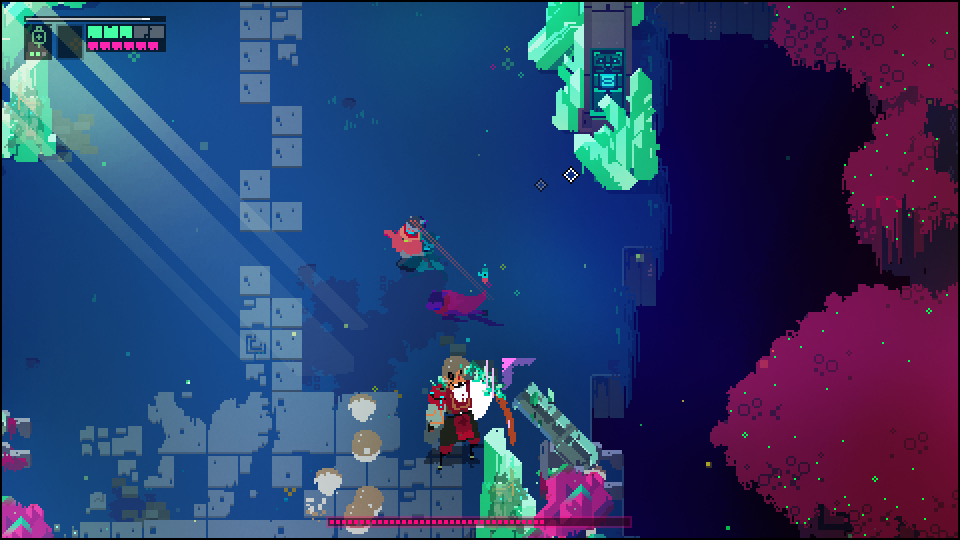hanged_man: (424, 362, 521, 466)
player: (377, 217, 426, 266)
